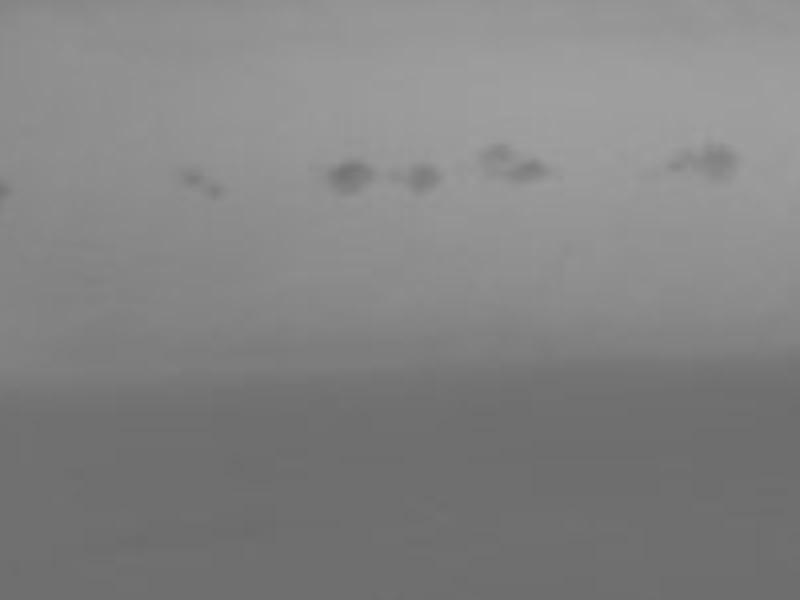defect: (694, 137, 736, 185), (328, 162, 374, 199), (408, 163, 442, 198), (483, 139, 515, 166), (511, 159, 548, 182), (671, 146, 698, 172), (182, 166, 205, 186), (210, 186, 224, 199)
